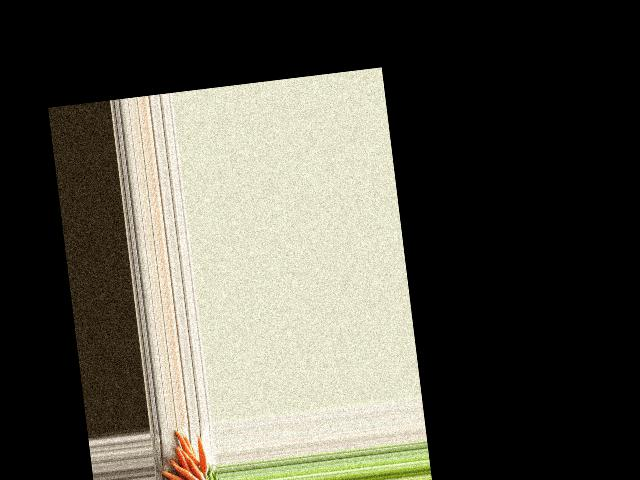carrot: (195, 434, 211, 473)
